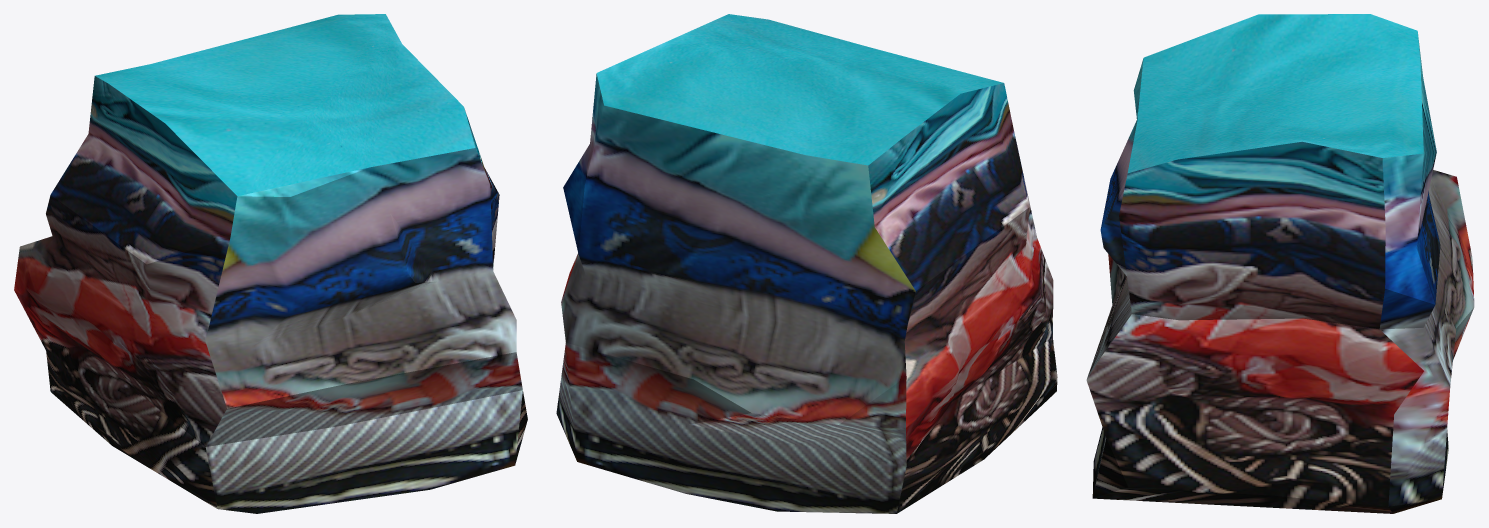
Rendered from shirt_pile-6.FBX.
3 renders of one model, left to right at view 1: azimuth 30°, elevation 25°; view 2: azimuth 150°, elevation 25°; view 3: azimuth 270°, elevation 25°, orthographic. The views are drawn at different scales.
Visible parts, largest first — view 1: Object01; view 2: Object01; view 3: Object01.
Part boxes in pixels (x1,y1,x2,y2): Object01: (14, 14, 527, 513); Object01: (556, 14, 1057, 513); Object01: (1086, 14, 1474, 513).
Size of the model in its own units: 20.49 by 18.36 by 17.94.
